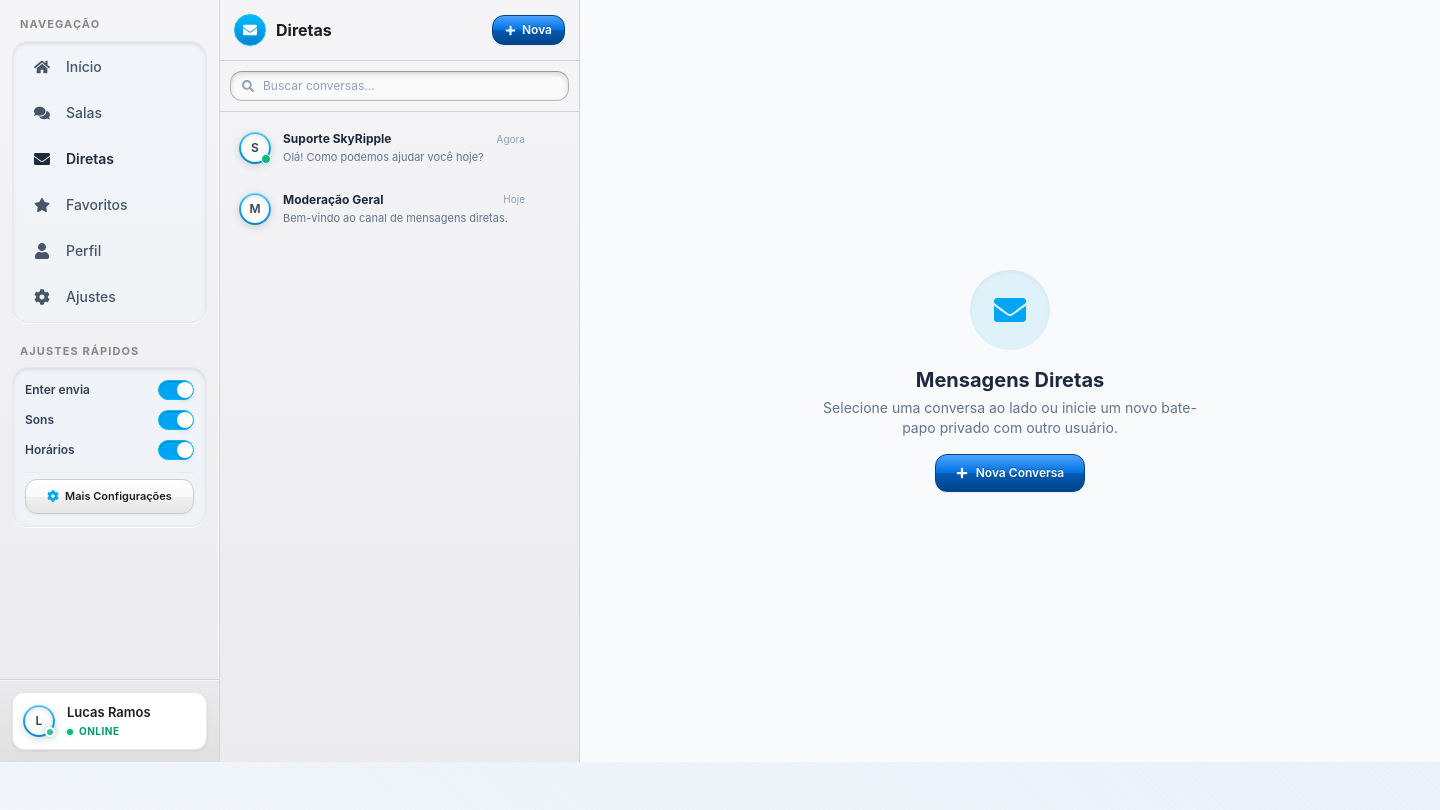
Scenario: Directs Page Tests › permite selecionar um usuário sugerido no modal e iniciar conversa
Click the button titled "Nova Mensagem Direta". click: (528, 30)
box: [492,15,565,45]
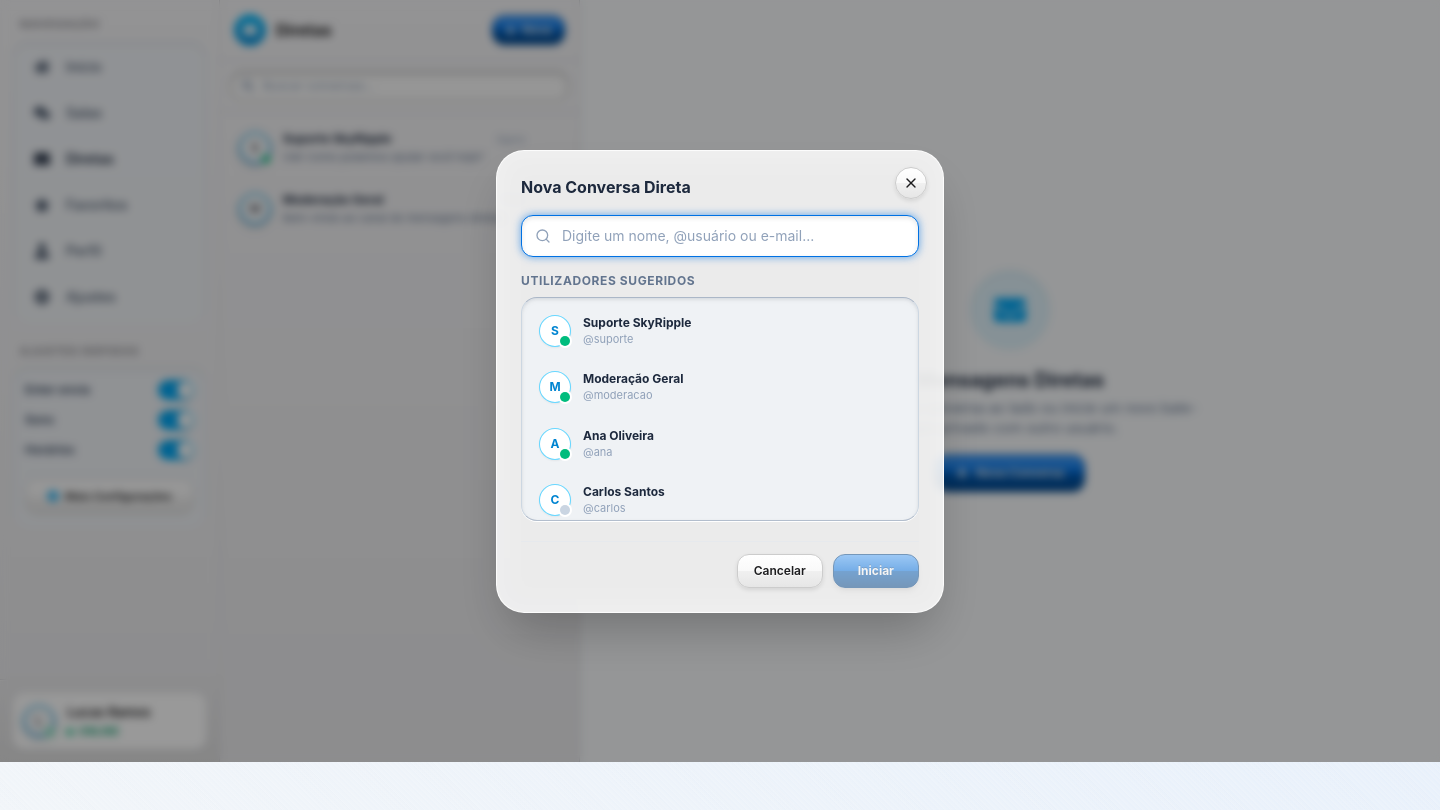
Now the text "Utilizadores sugeridos" is shown, box [521,272,695,288]
Click the text "Ana Oliveira". click: (619, 436)
box: [583,428,654,444]
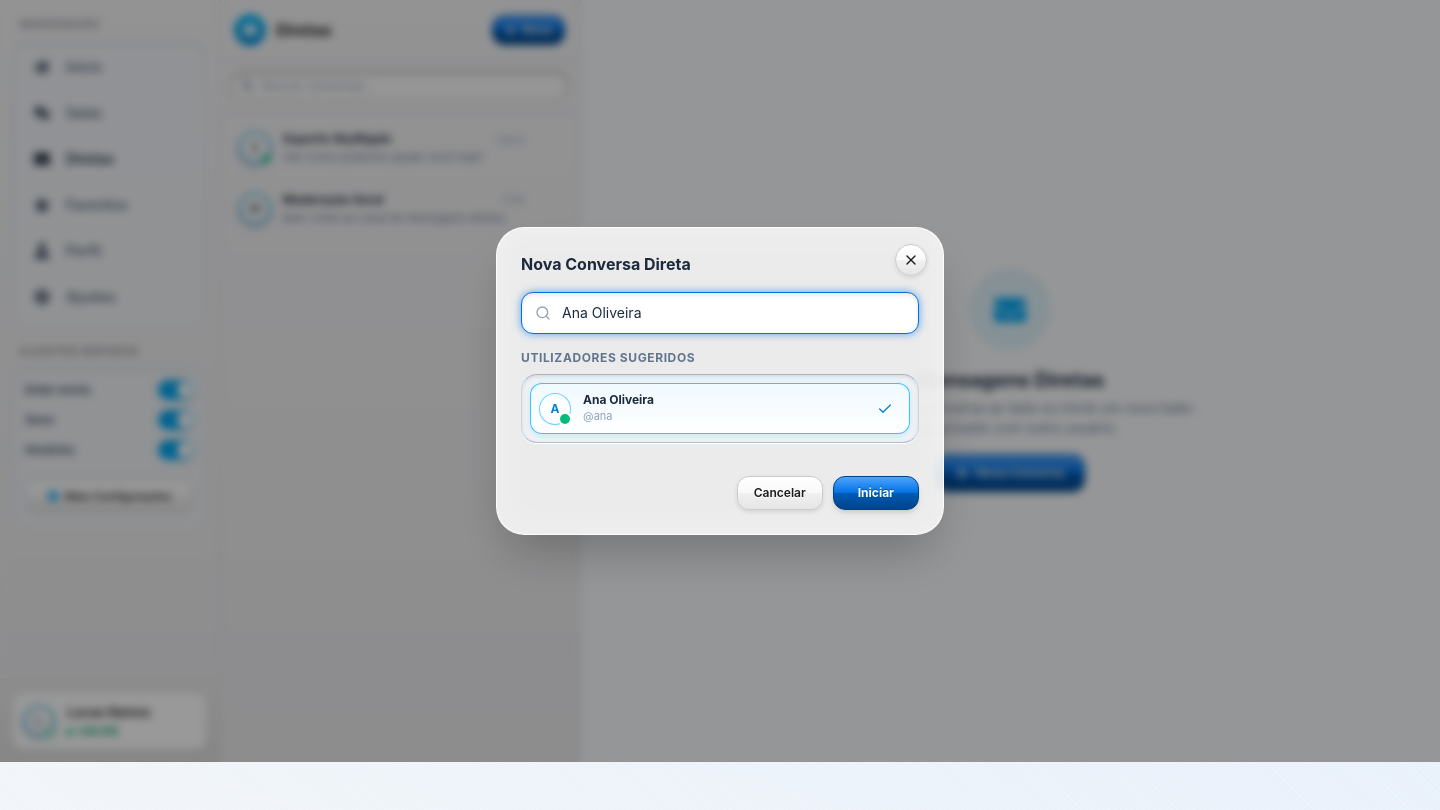
Click the button "Iniciar". click: (876, 493)
box: [833,476,919,510]
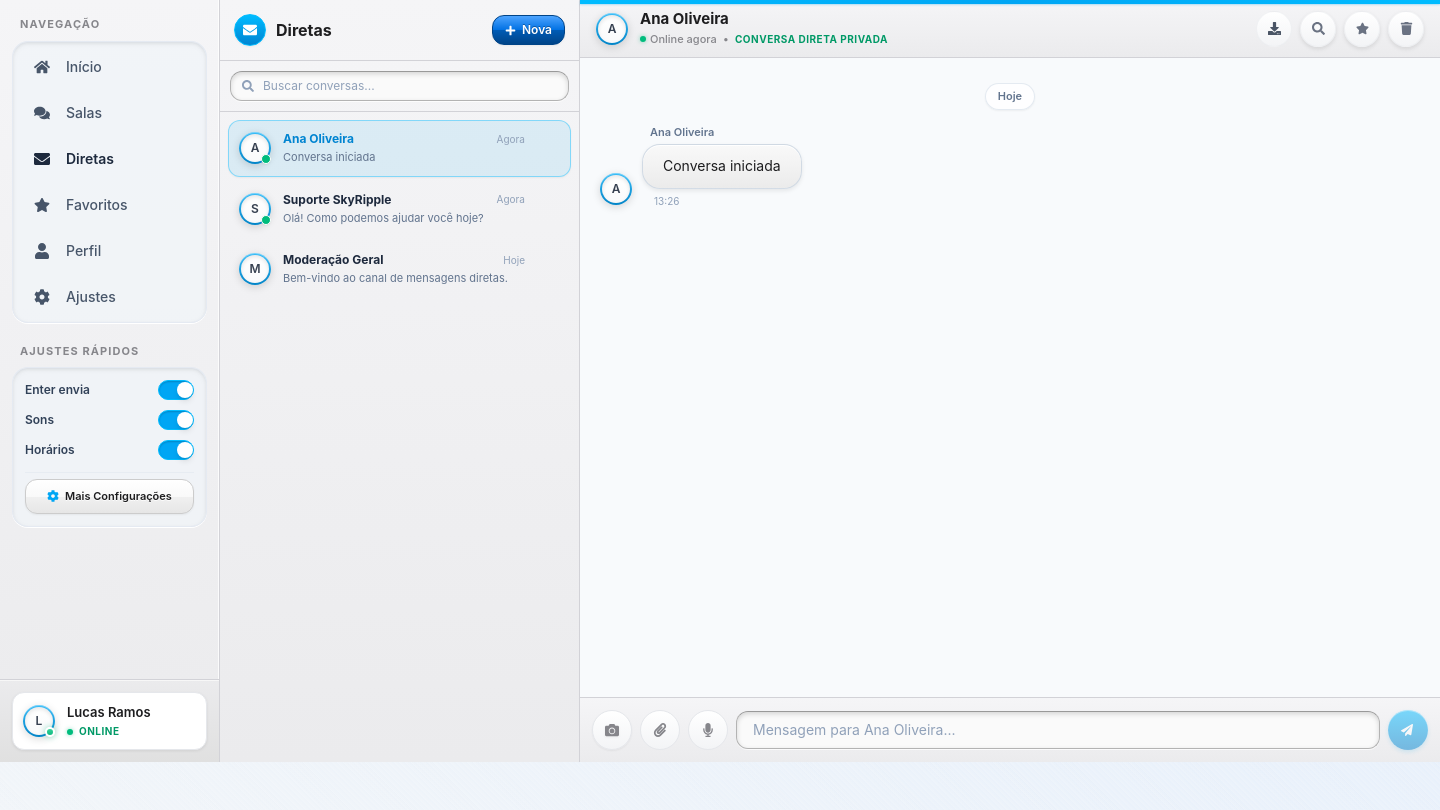
Now the 2nd heading "Ana Oliveira" is shown, box [283,131,354,147]
Now the field with placeholder "Mensagem para Ana Oliveira..." is shown, box [736,711,1380,749]
